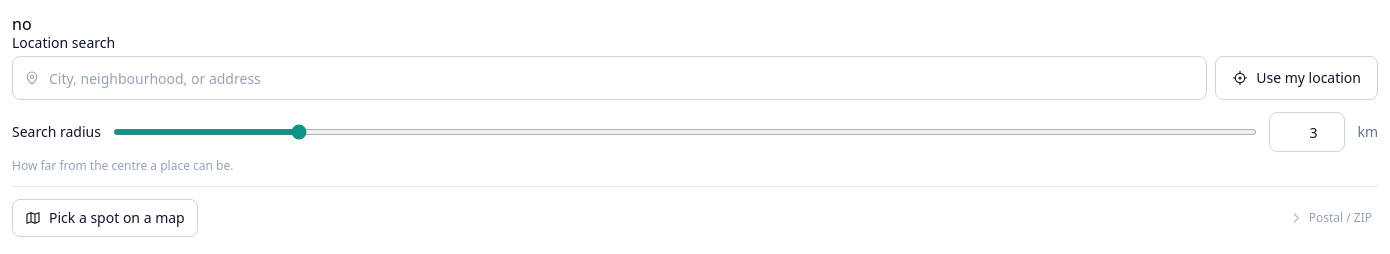
<LocationField /> — how much the browser's fix can be trusted › drives the same value from the slider, on a curve that favours short trips
Step 1. Set the slider named "search radius" to "500" → [1249, 132], box [113, 129, 1257, 135]
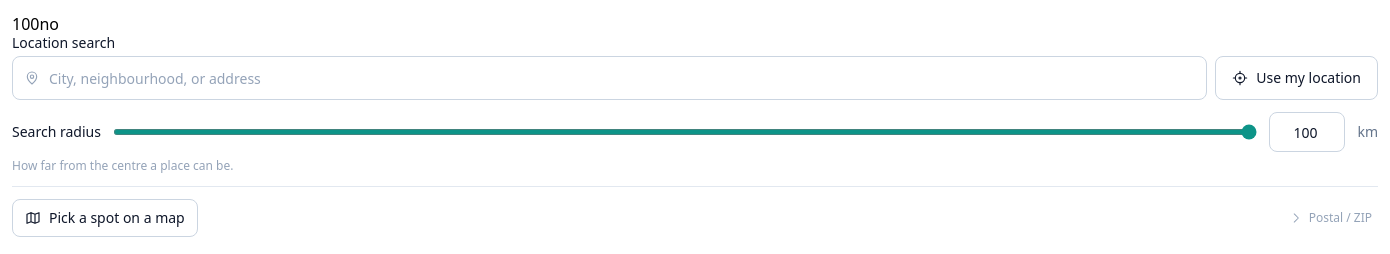
Expected: the text with test id "radius" reads "100", [12, 13, 40, 35]
Step 2. Set the slider named "search radius" to "0" → [121, 132], box [113, 129, 1257, 135]
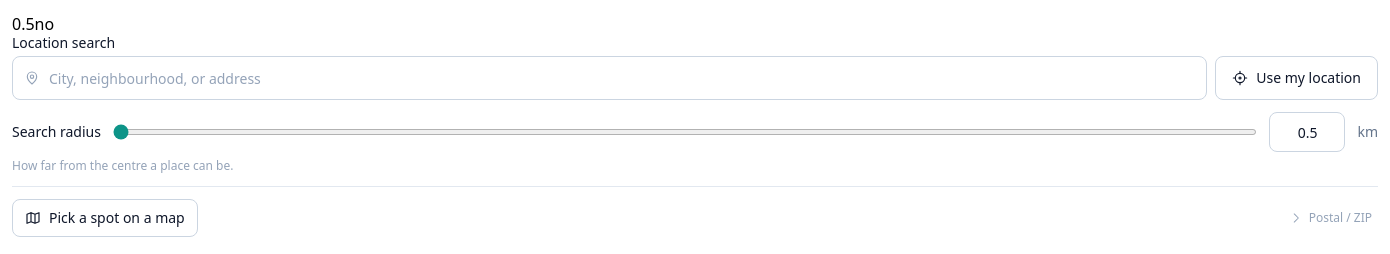
Expected: the text with test id "radius" reads "0.5", [12, 13, 35, 35]
// A third of the way along is still a walkable distance, not 33 km.
Step 3. Set the slider named "search radius" to "167" → [498, 132], box [113, 129, 1257, 135]
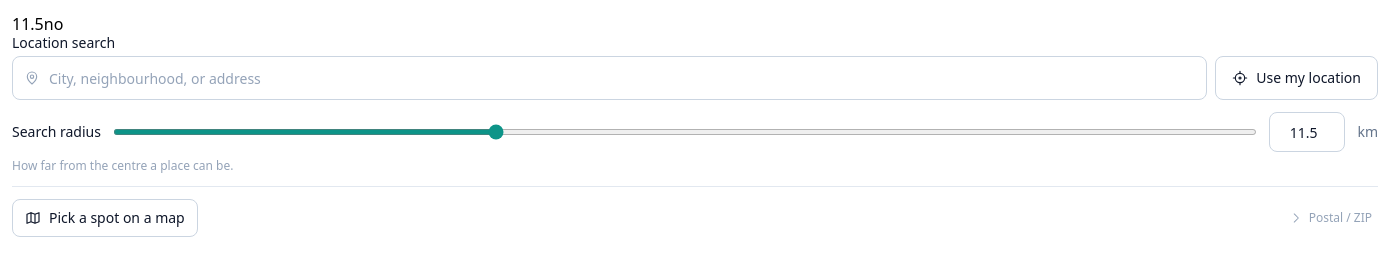
Expected: the number field labelled "Search radius" holds "11.5", [1269, 112, 1345, 152]
